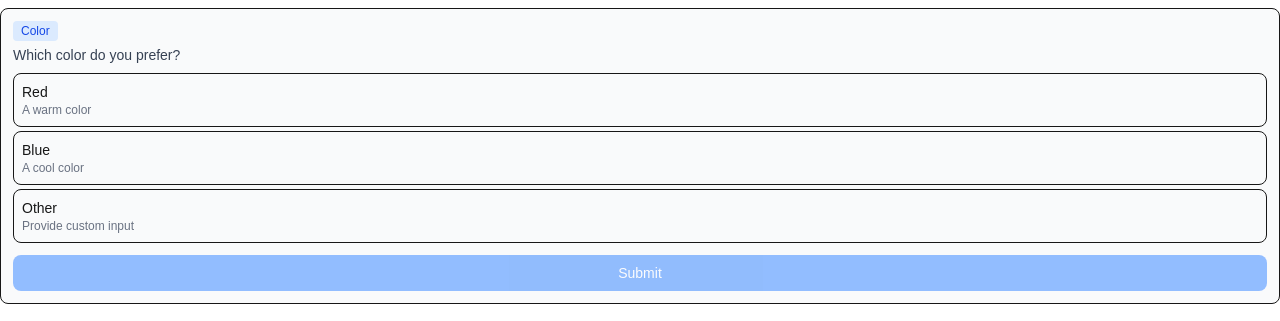
Test: AskUserQuestionUI › submit › enables submit when all answered
The width and height of the screenshot is (1280, 321).
Click the button "Red A warm color" at (57, 110), box [13,73,1267,127]
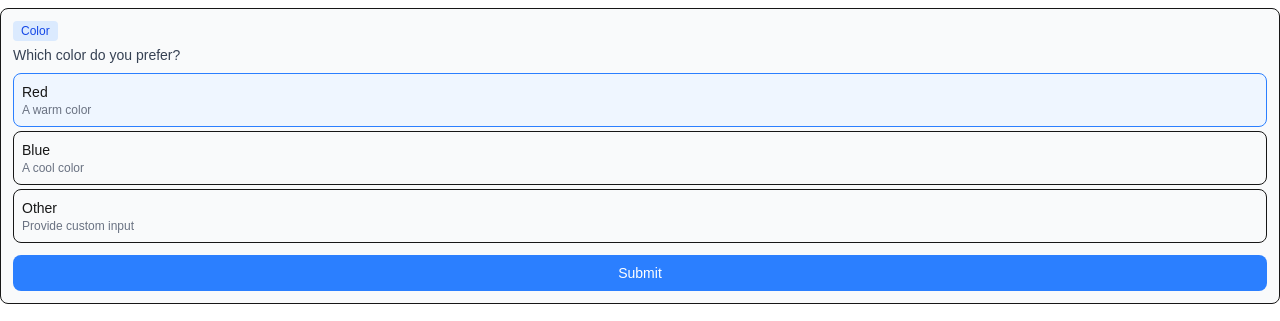
Now the button "Submit" is enabled, box [13,255,1267,291]
